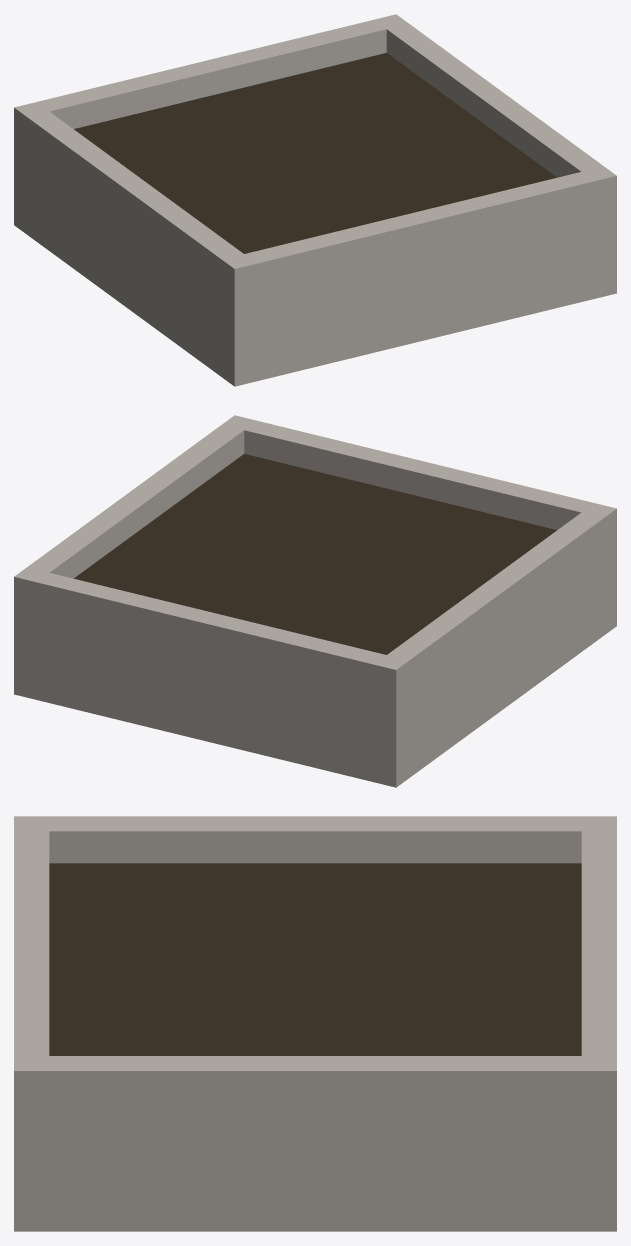
Rendered from MSH_Firepit.FBX.
3 views of the same model, one above another, from view 1: azimuth 30°, elevation 25°; view 2: azimuth 150°, elevation 25°; view 3: azimuth 270°, elevation 25° (orthographic). The views are drawn at different scales.
Visible parts, largest first — view 1: MSH_Firepit; view 2: MSH_Firepit; view 3: MSH_Firepit.
Boxes of the visible parts, x1,y1,x2,y2 form: MSH_Firepit: (14, 14, 616, 386); MSH_Firepit: (14, 415, 616, 787); MSH_Firepit: (14, 816, 616, 1231).
Bounding box in the file's own units: 170 × 50 × 170.
